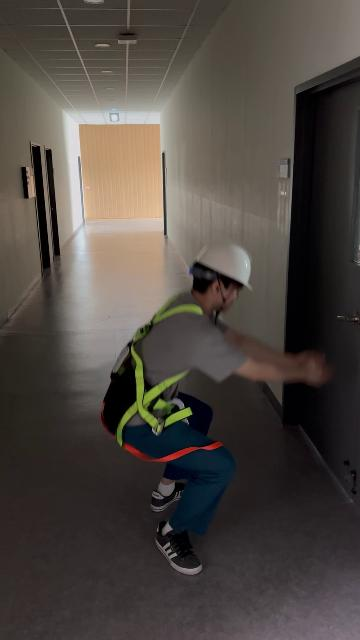helmet_worn: (192, 242, 254, 292)
shoe_not_worn: (155, 521, 201, 575), (150, 477, 187, 511)
vest_worn: (98, 292, 206, 452)
